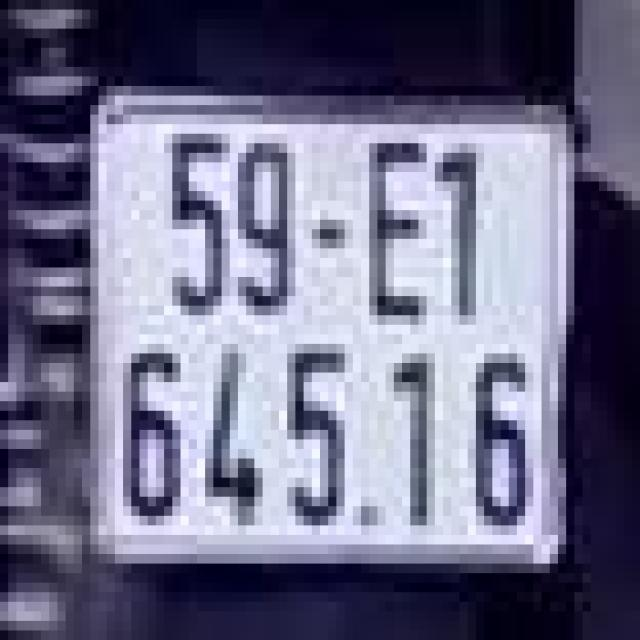1: (373, 325, 448, 554), (439, 139, 496, 339)
4: (197, 334, 271, 526)
5: (279, 334, 361, 535), (156, 110, 230, 320)
6: (107, 330, 197, 540), (468, 334, 550, 554)
9: (230, 129, 304, 310)
E: (345, 124, 443, 334)
